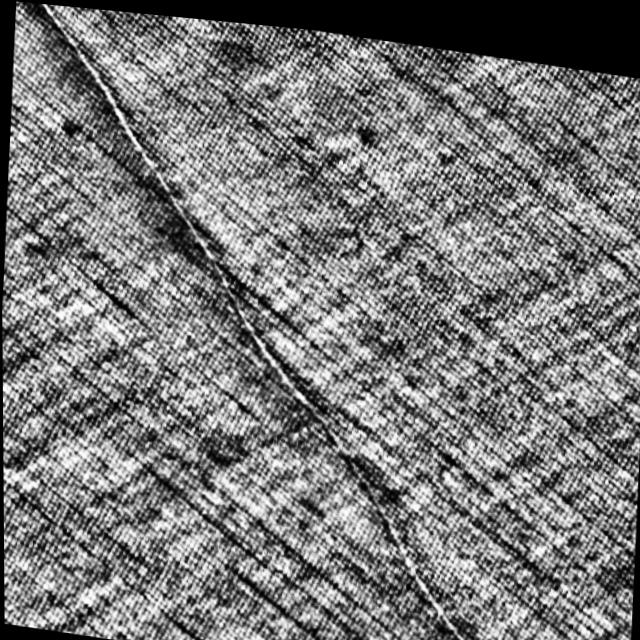Stitch: (165, 226, 379, 482), (356, 490, 573, 640), (51, 19, 197, 191)
